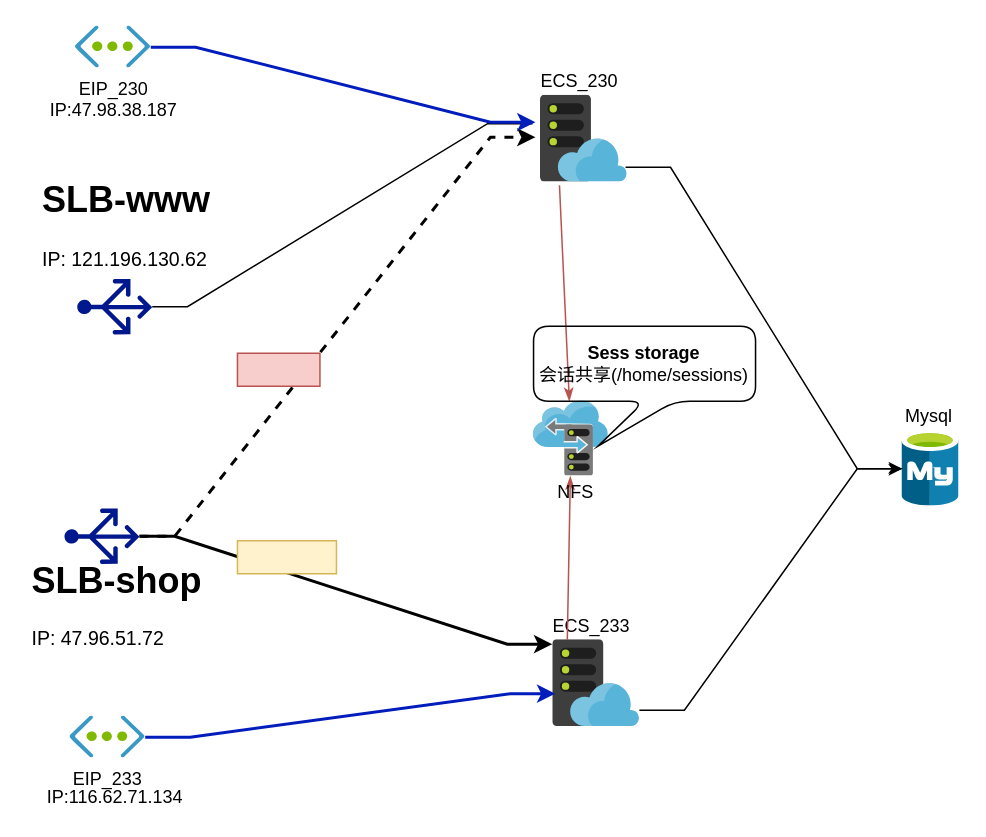
Image size: 986x837. Some labels were removed from this diagram. Each missing label, with the centre of its shape:
权重0%: pixel 278 369
权重100%: pixel 286 556
